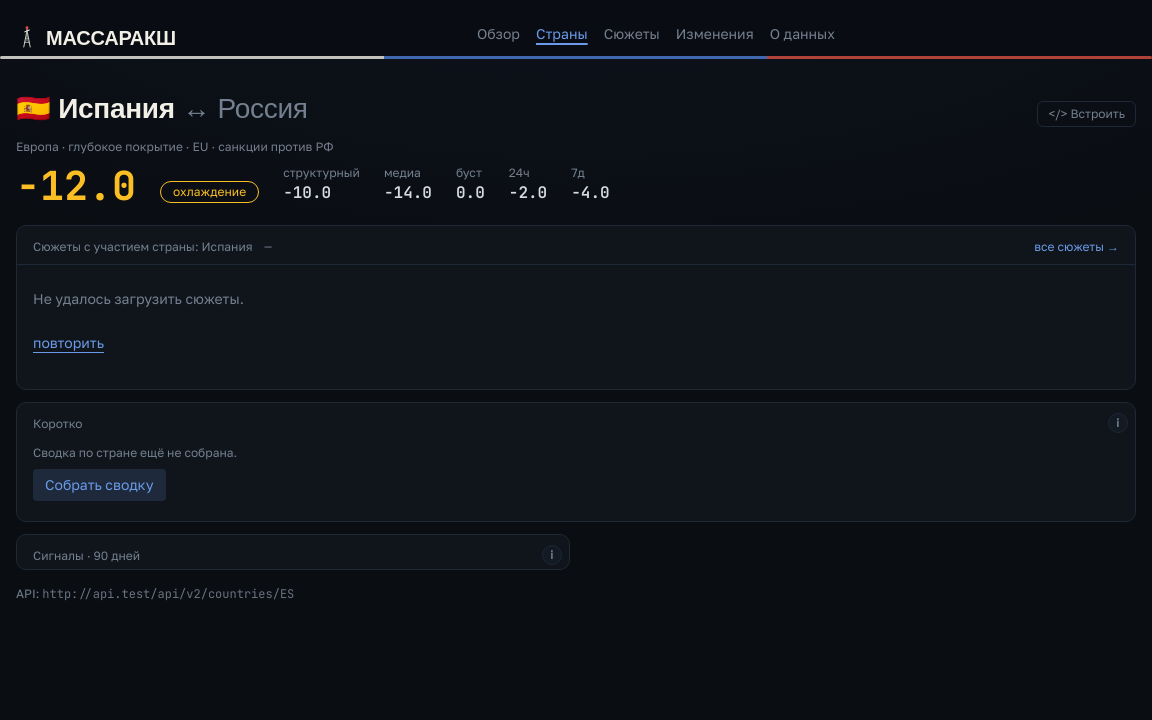
Test: story placements › keeps a retryable story error on a country page
Expected: the text "Не удалось загрузить сюжеты." is shown, left=33, top=290, right=244, bottom=307
Click the button "повторить" at {"x": 69, "y": 343}, box left=33, top=321, right=104, bottom=365
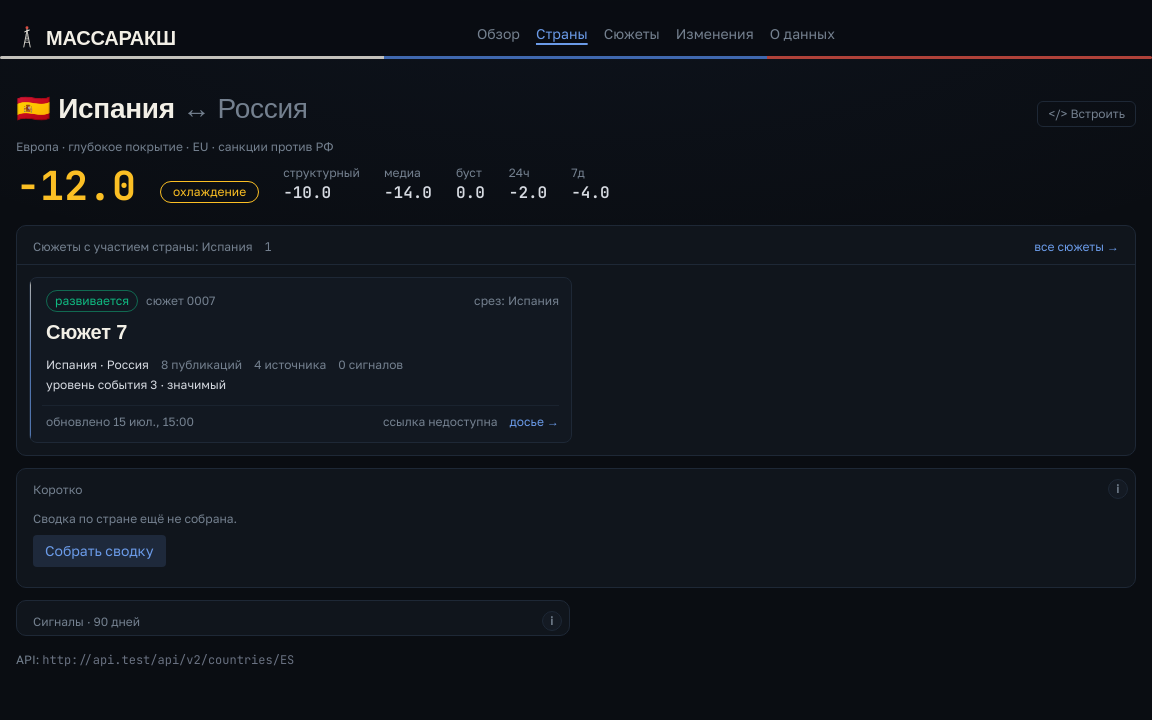
Now the link "Сюжет 7" is shown, box left=46, top=321, right=127, bottom=343
